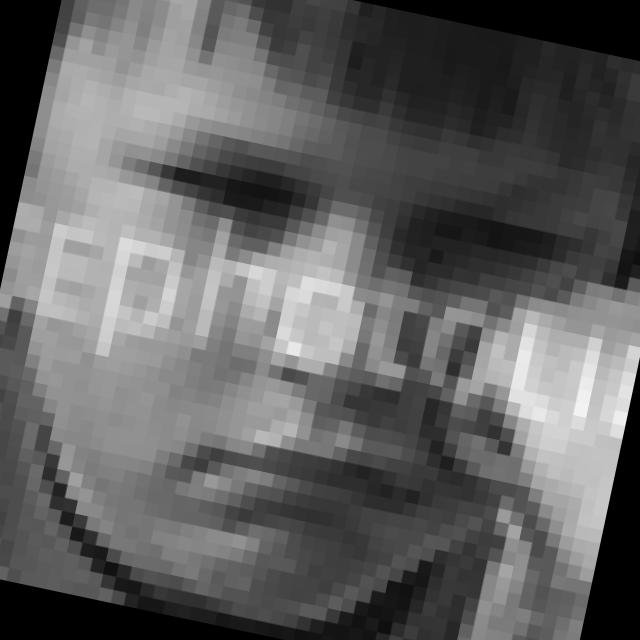sad: (54, 81, 613, 596)
